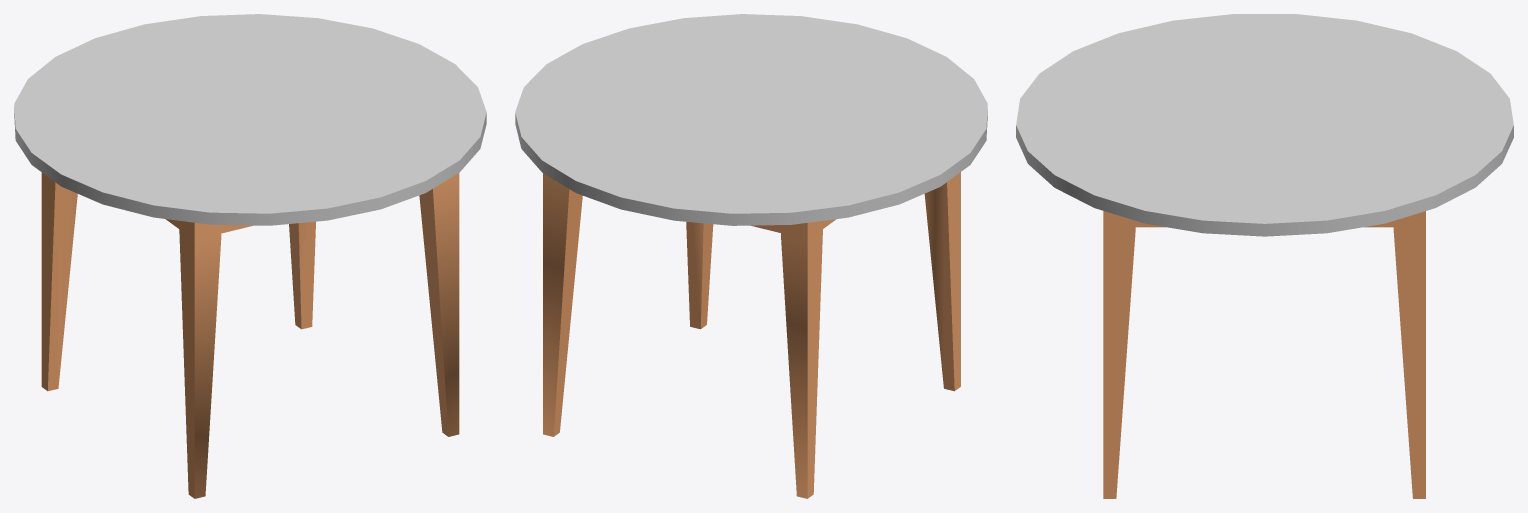
Rendered from kitchen_table_1.FBX.
The picture shows the model from 3 angles, left to right: view 1: azimuth 30°, elevation 25°; view 2: azimuth 150°, elevation 25°; view 3: azimuth 270°, elevation 25°; orthographic projection. The views are drawn at different scales.
Visible parts, largest first — view 1: kitchen_table_1; view 2: kitchen_table_1; view 3: kitchen_table_1.
Part boxes in pixels (bbox=[...]): kitchen_table_1: bbox=[14, 14, 486, 498]; kitchen_table_1: bbox=[515, 14, 987, 498]; kitchen_table_1: bbox=[1016, 14, 1513, 498].
Size of the model in its own units: 1.08 by 0.7514 by 1.09.
